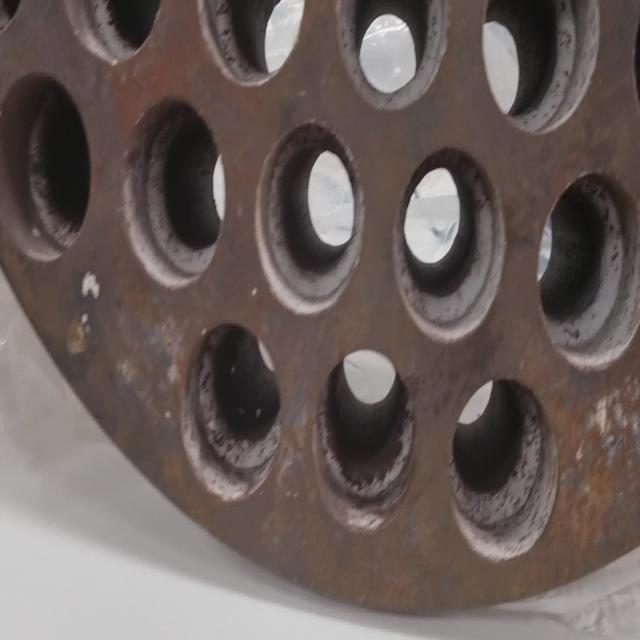Hole: (392, 143, 506, 343), (255, 119, 365, 315), (120, 93, 226, 290), (451, 376, 562, 564), (537, 170, 639, 370), (180, 316, 284, 504), (315, 344, 417, 534), (2, 72, 92, 262), (479, 0, 601, 135), (334, 0, 451, 112), (194, 1, 310, 88)
